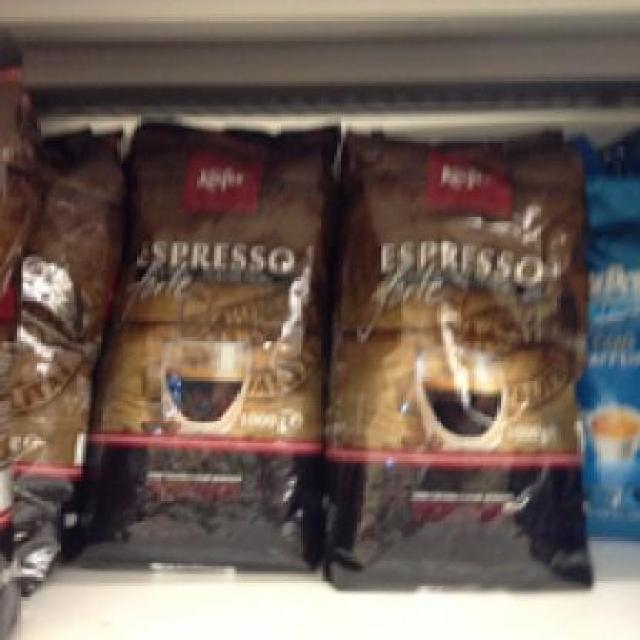Coffee: (53, 114, 330, 577), (332, 126, 588, 588)
